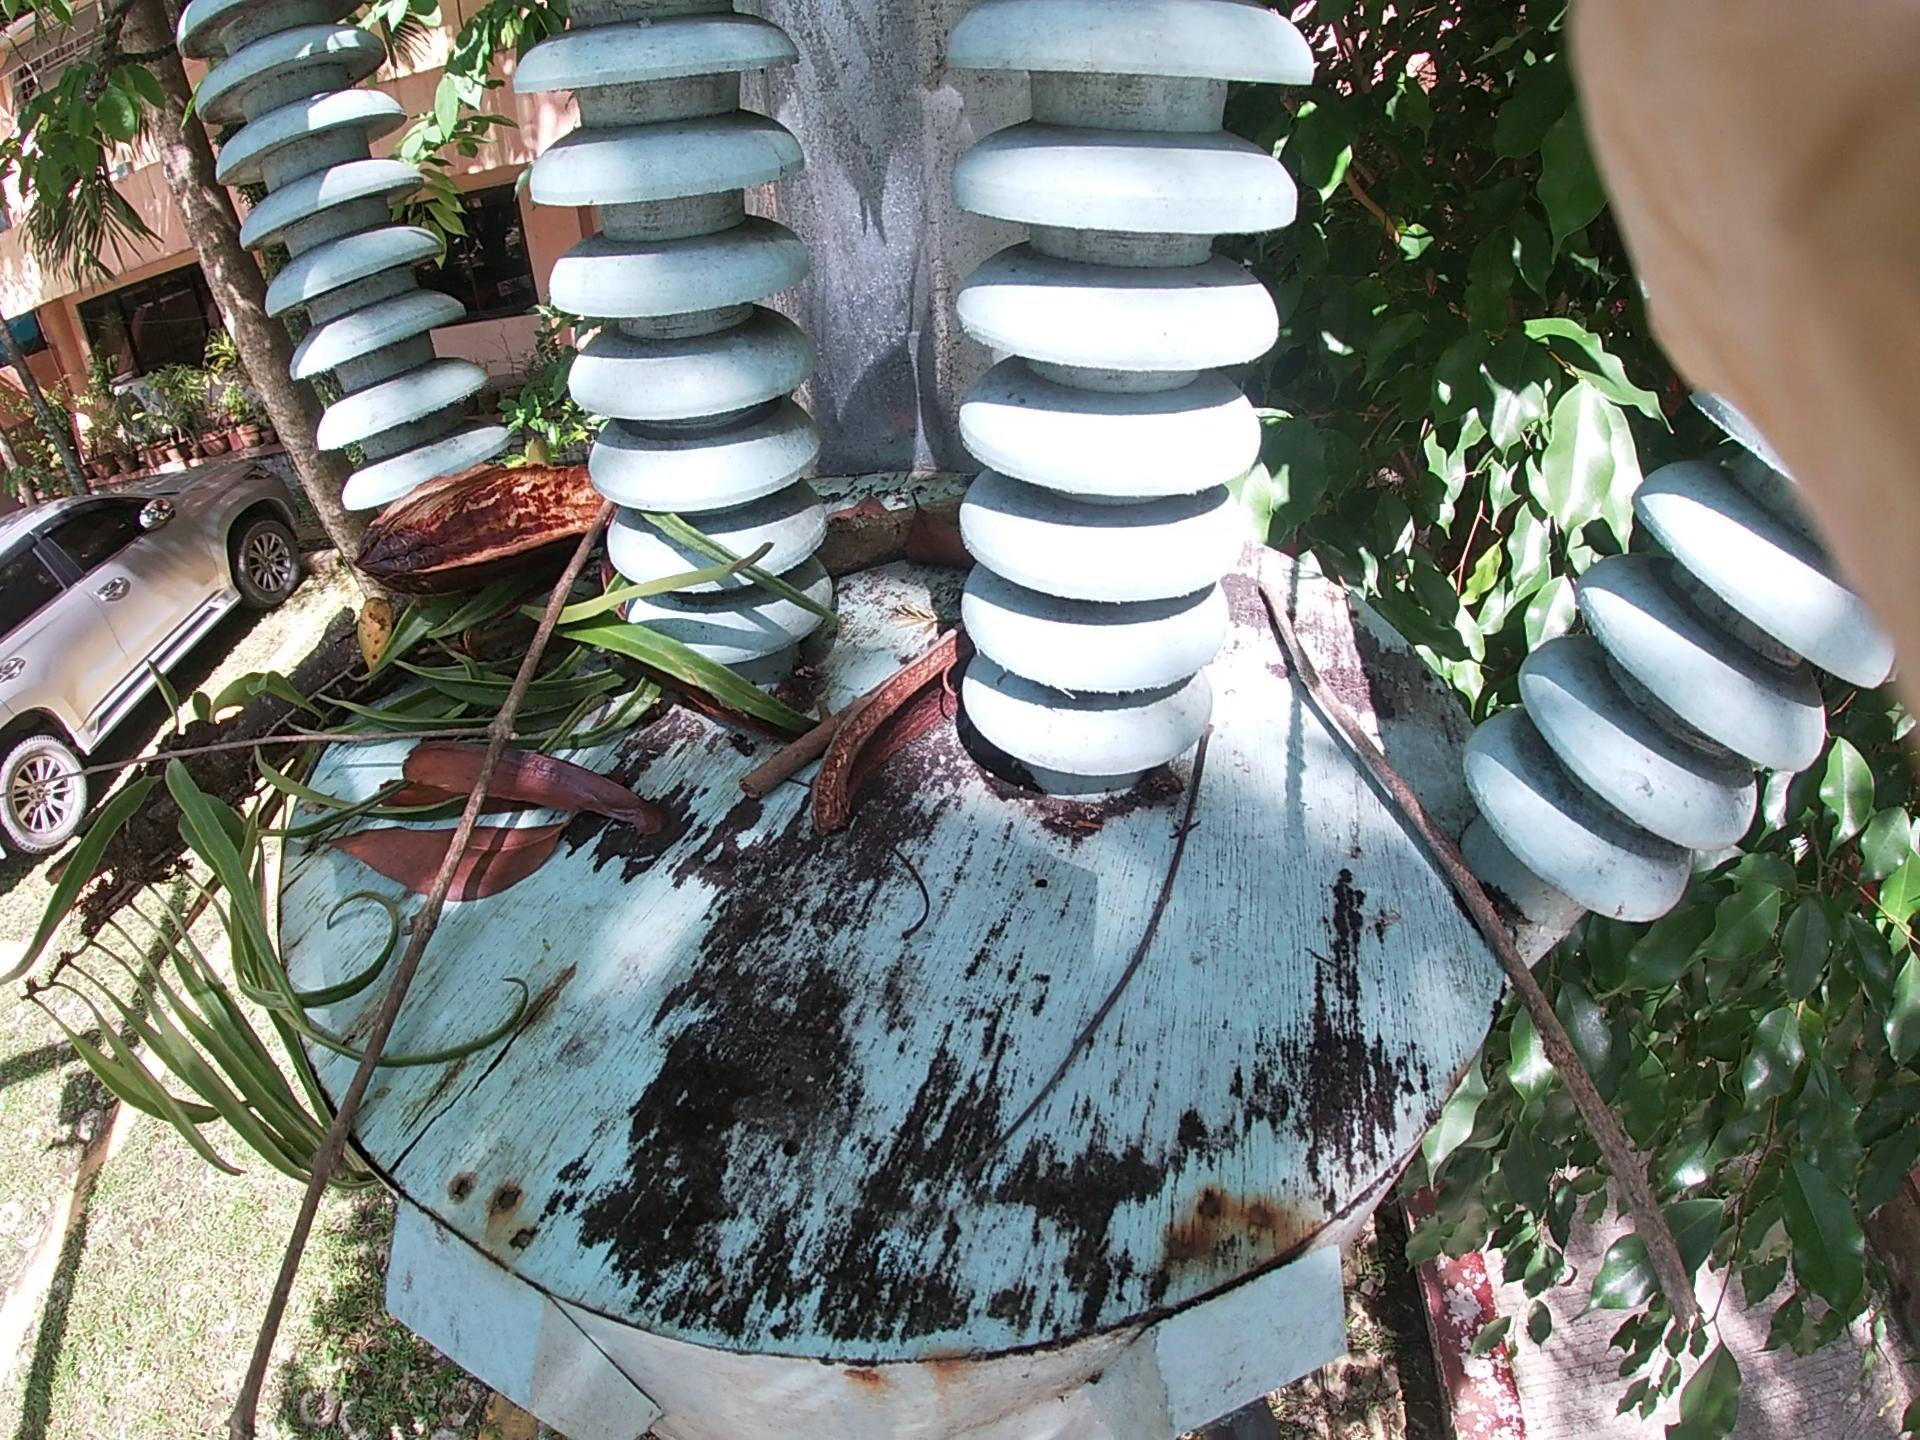branch with leaves: (82, 369, 924, 962)
leaf: (328, 717, 562, 945)
mahogany fruit: (730, 591, 1008, 897), (314, 451, 618, 625)
tree branch: (231, 424, 680, 1432), (1252, 560, 1649, 1286), (971, 725, 1259, 1172), (754, 501, 1184, 802)
